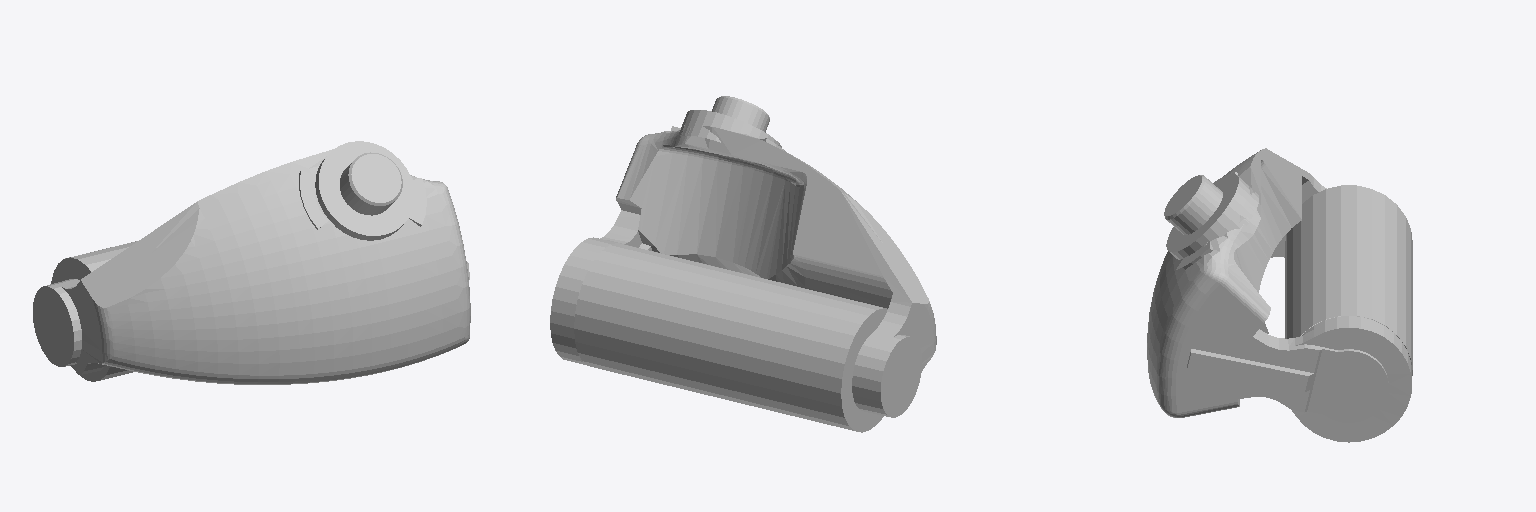
File: RHipYawPitch.obj
3 renders of one model, left to right at view 1: azimuth 30°, elevation 25°; view 2: azimuth 150°, elevation 25°; view 3: azimuth 270°, elevation 25°, orthographic.
Parts seen in each view (by area): view 1: root; view 2: root; view 3: root.
Boxes of the visible parts, x1=… form: root: x1=33, y1=141, x2=470, y2=384; root: x1=550, y1=96, x2=936, y2=432; root: x1=1147, y1=148, x2=1412, y2=442.
Size of the model in its own units: 82.8 by 52.98 by 56.74.